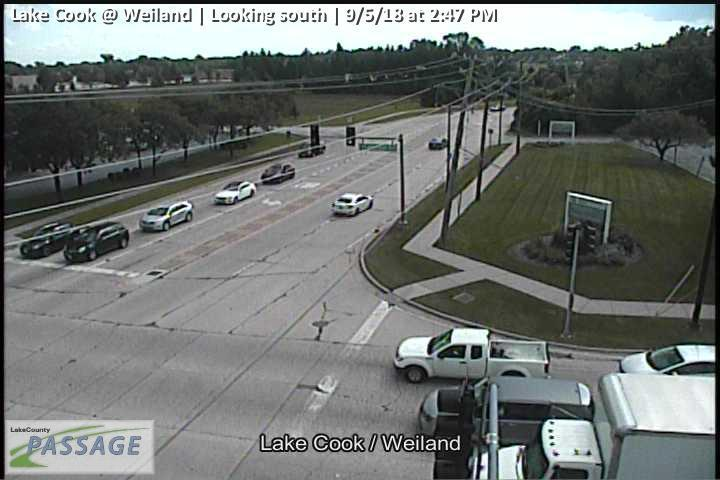SUV: (419, 377, 594, 450), (63, 222, 129, 263), (21, 221, 71, 256), (140, 199, 193, 230), (262, 163, 296, 184)
Sedan: (618, 344, 714, 386), (215, 179, 257, 205), (330, 192, 374, 216), (429, 138, 446, 148)
Truck: (470, 372, 720, 480), (394, 327, 550, 383)
